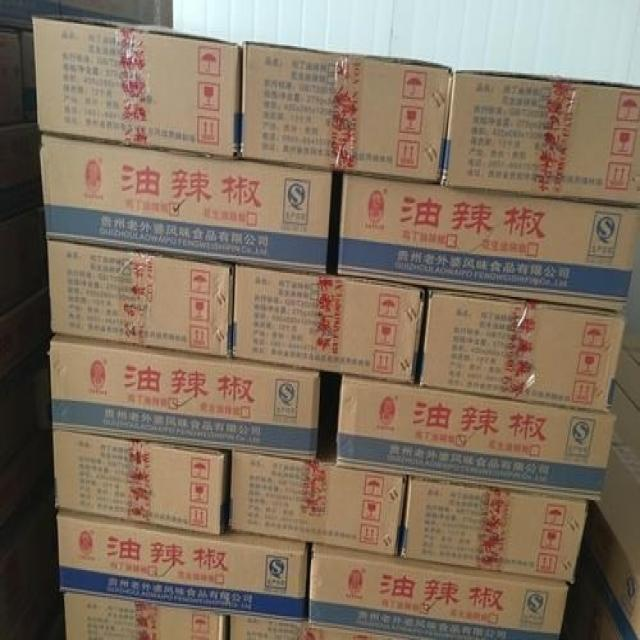box: (332, 171, 637, 317), (42, 133, 332, 273), (51, 331, 333, 459), (334, 374, 618, 500), (239, 43, 452, 183), (31, 17, 243, 155), (58, 507, 307, 621), (439, 70, 639, 208), (415, 288, 627, 415), (306, 541, 573, 640), (227, 410, 407, 555), (232, 265, 426, 386), (47, 237, 238, 358), (397, 474, 589, 584), (51, 430, 230, 538), (595, 375, 640, 584), (576, 505, 640, 638), (63, 594, 230, 640), (229, 613, 422, 640)
